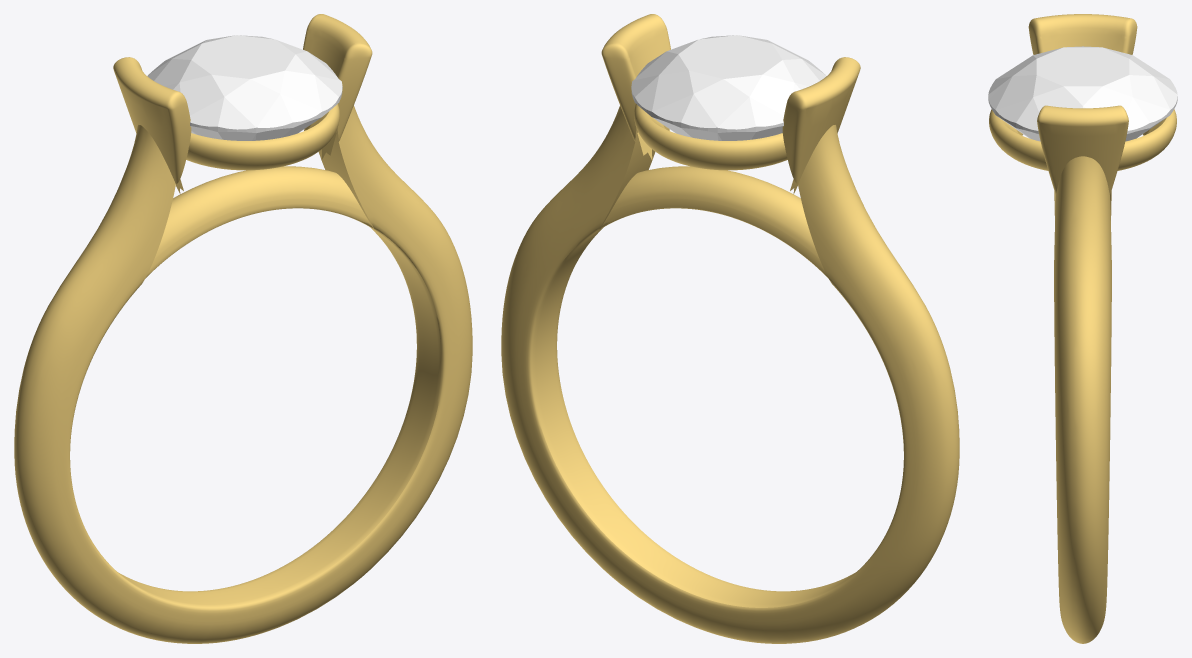
File: EricPappas_webgi.glb
The picture shows the model from 3 angles, left to right: view 1: azimuth 30°, elevation 25°; view 2: azimuth 150°, elevation 25°; view 3: azimuth 270°, elevation 25°; orthographic projection. The views are drawn at different scales.
Parts seen in each view (by area): view 1: cathedral_eric_YG_for_3d_model, twist_Eric_dia_for_3d_model; view 2: cathedral_eric_YG_for_3d_model, twist_Eric_dia_for_3d_model; view 3: cathedral_eric_YG_for_3d_model, twist_Eric_dia_for_3d_model.
Part boxes in pixels (<box>): cathedral_eric_YG_for_3d_model: <box>14,14,472,643</box>; twist_Eric_dia_for_3d_model: <box>147,35,342,140</box>; cathedral_eric_YG_for_3d_model: <box>501,14,959,643</box>; twist_Eric_dia_for_3d_model: <box>631,35,826,140</box>; cathedral_eric_YG_for_3d_model: <box>989,14,1176,643</box>; twist_Eric_dia_for_3d_model: <box>988,46,1177,141</box>.
Size of the model in its own units: 2.45 by 3.02 by 0.9281.
